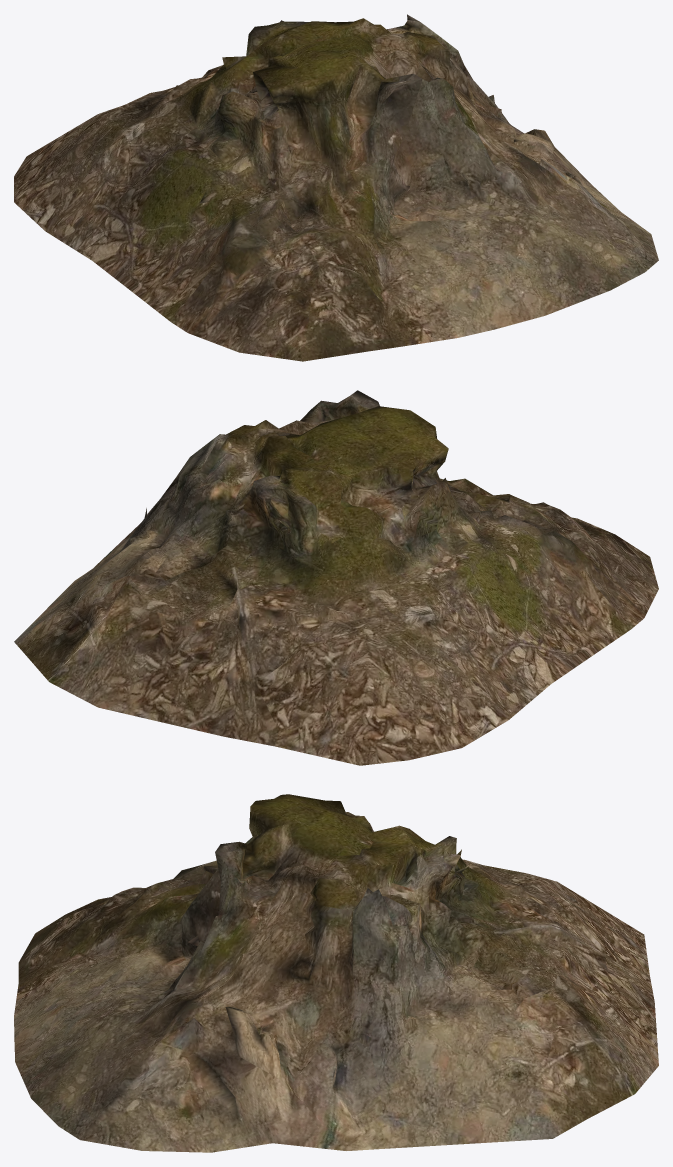
File: stump_a.glb
The picture shows the model from 3 angles, top to bottom: view 1: azimuth 30°, elevation 25°; view 2: azimuth 150°, elevation 25°; view 3: azimuth 270°, elevation 25°; orthographic projection. The views are drawn at different scales.
Parts seen in each view (by area): view 1: tree_stump_01; view 2: tree_stump_01; view 3: tree_stump_01.
Part boxes in pixels (x1=…): tree_stump_01: x1=14, y1=14, x2=658, y2=361; tree_stump_01: x1=14, y1=390, x2=658, y2=765; tree_stump_01: x1=14, y1=794, x2=658, y2=1152.
Size of the model in its own units: 1.43 by 0.571 by 1.59.
Materials: 1 (1 with a texture image).
